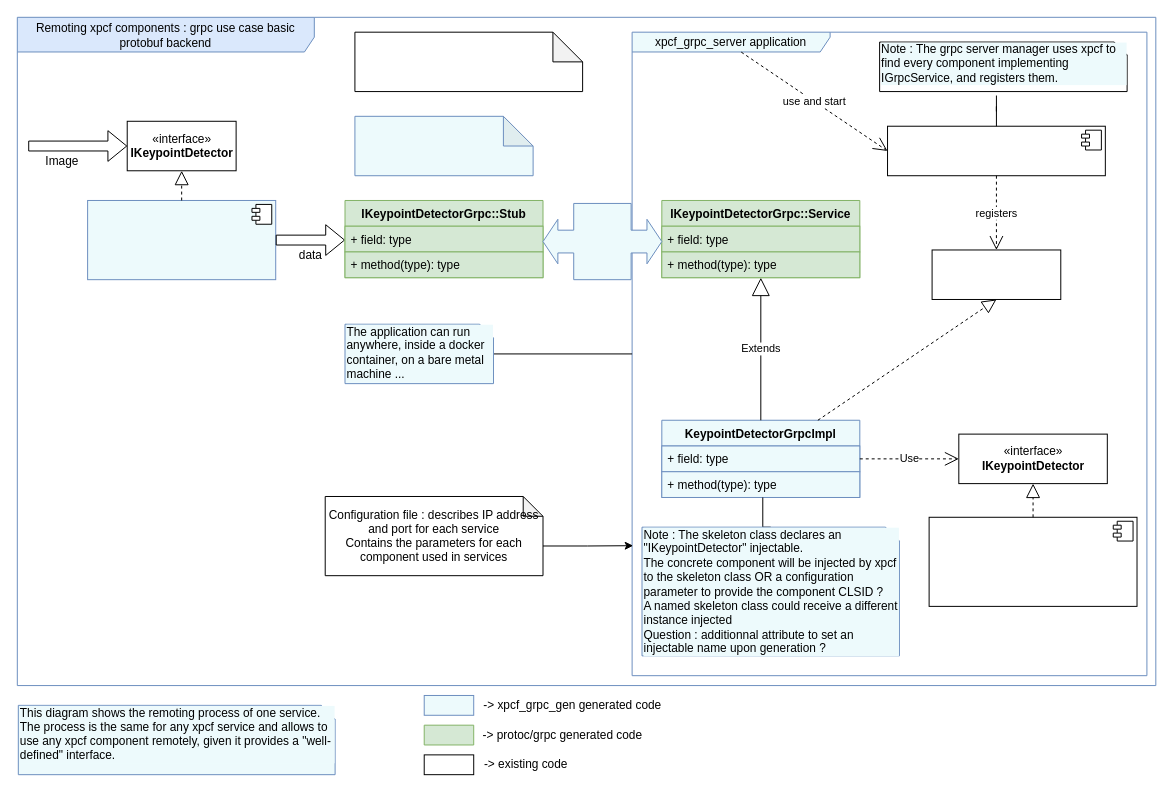
Image size: 1173x792. Some labels were removed from this diagram. The centre of each missing label's shape, as x and y in pixels:
IkeypointDetectorGrpc.proto: the point at 443,145
IkeypointDetectorGrpcMessages.proto: the point at 468,61
KeypointDetectorOpenCV +: the point at 1032,561
KeypointDetectorProxy +: the point at 181,239
Network: the point at 602,241
xpcf::GrpcServerManager +: the point at 996,150
«interface» xpcf::IGrpcService: the point at 996,274
